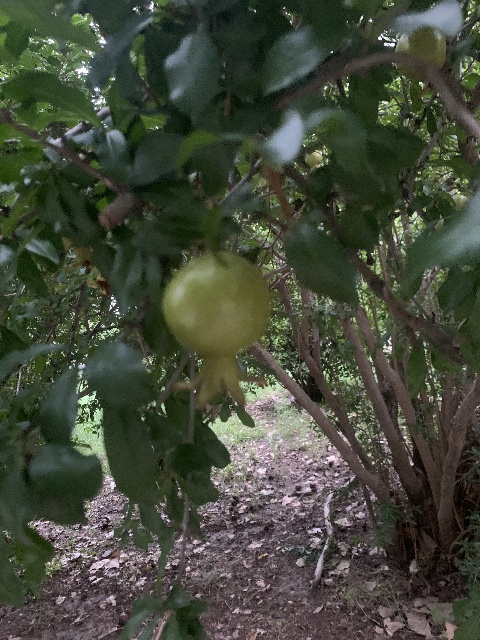mid-growth: (161, 250, 273, 408), (394, 27, 446, 96), (305, 152, 322, 169)
